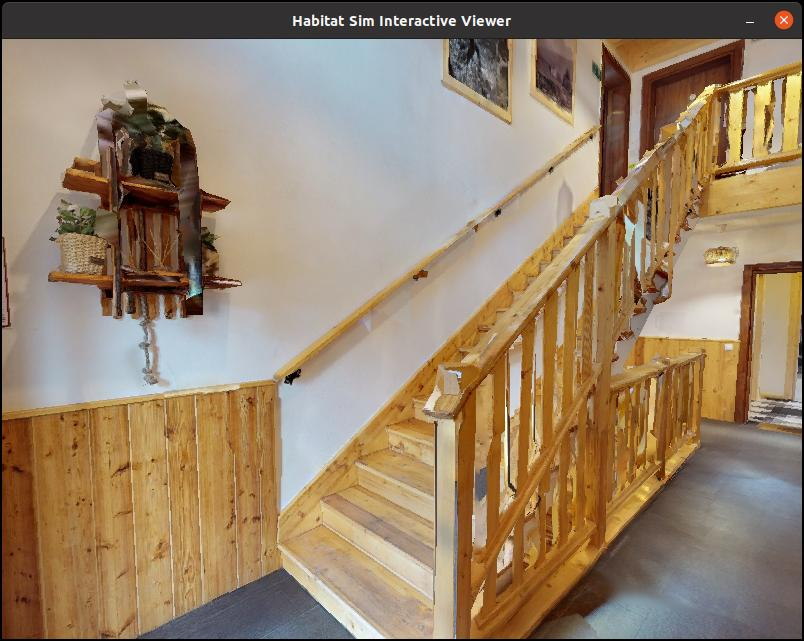stairs: (281, 118, 690, 633)
